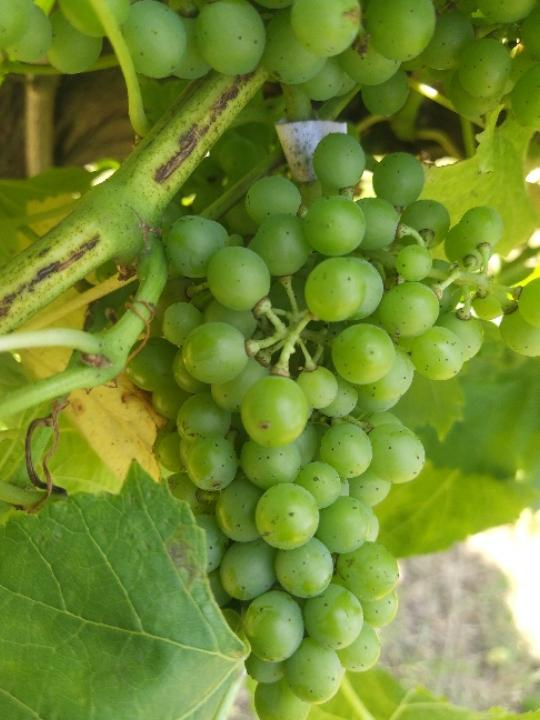grape: (125, 133, 540, 720)
